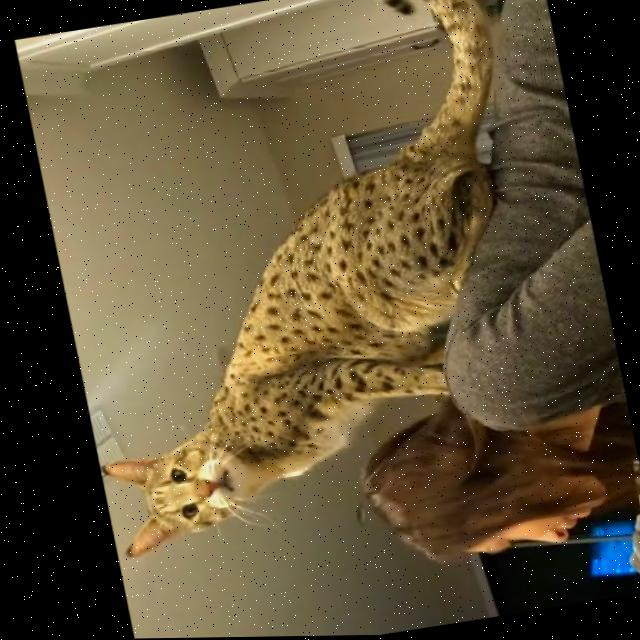Savannah: (11, 0, 578, 565)
